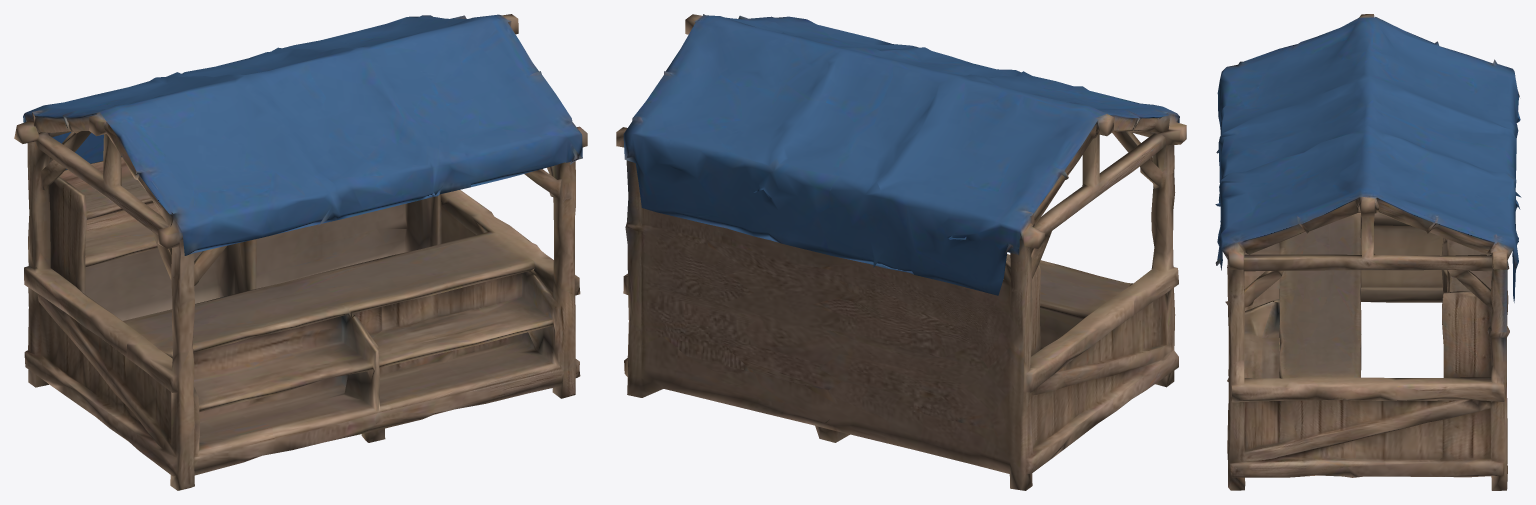
The model's file is market_stall_b.glb.
3 views of the same model, side by side, from view 1: azimuth 30°, elevation 25°; view 2: azimuth 150°, elevation 25°; view 3: azimuth 270°, elevation 25° (orthographic). The views are drawn at different scales.
Parts seen in each view (by area): view 1: tripo_node_234642cf-b50f-44fe-af2c-20e297f4b22d; view 2: tripo_node_234642cf-b50f-44fe-af2c-20e297f4b22d; view 3: tripo_node_234642cf-b50f-44fe-af2c-20e297f4b22d.
Part boxes in pixels (bbox=[...]): tripo_node_234642cf-b50f-44fe-af2c-20e297f4b22d: bbox=[14, 14, 587, 490]; tripo_node_234642cf-b50f-44fe-af2c-20e297f4b22d: bbox=[616, 14, 1186, 490]; tripo_node_234642cf-b50f-44fe-af2c-20e297f4b22d: bbox=[1215, 14, 1521, 490].
Size of the model in its own units: 1 by 0.7327 by 0.679.
1 material, 1 textured.
